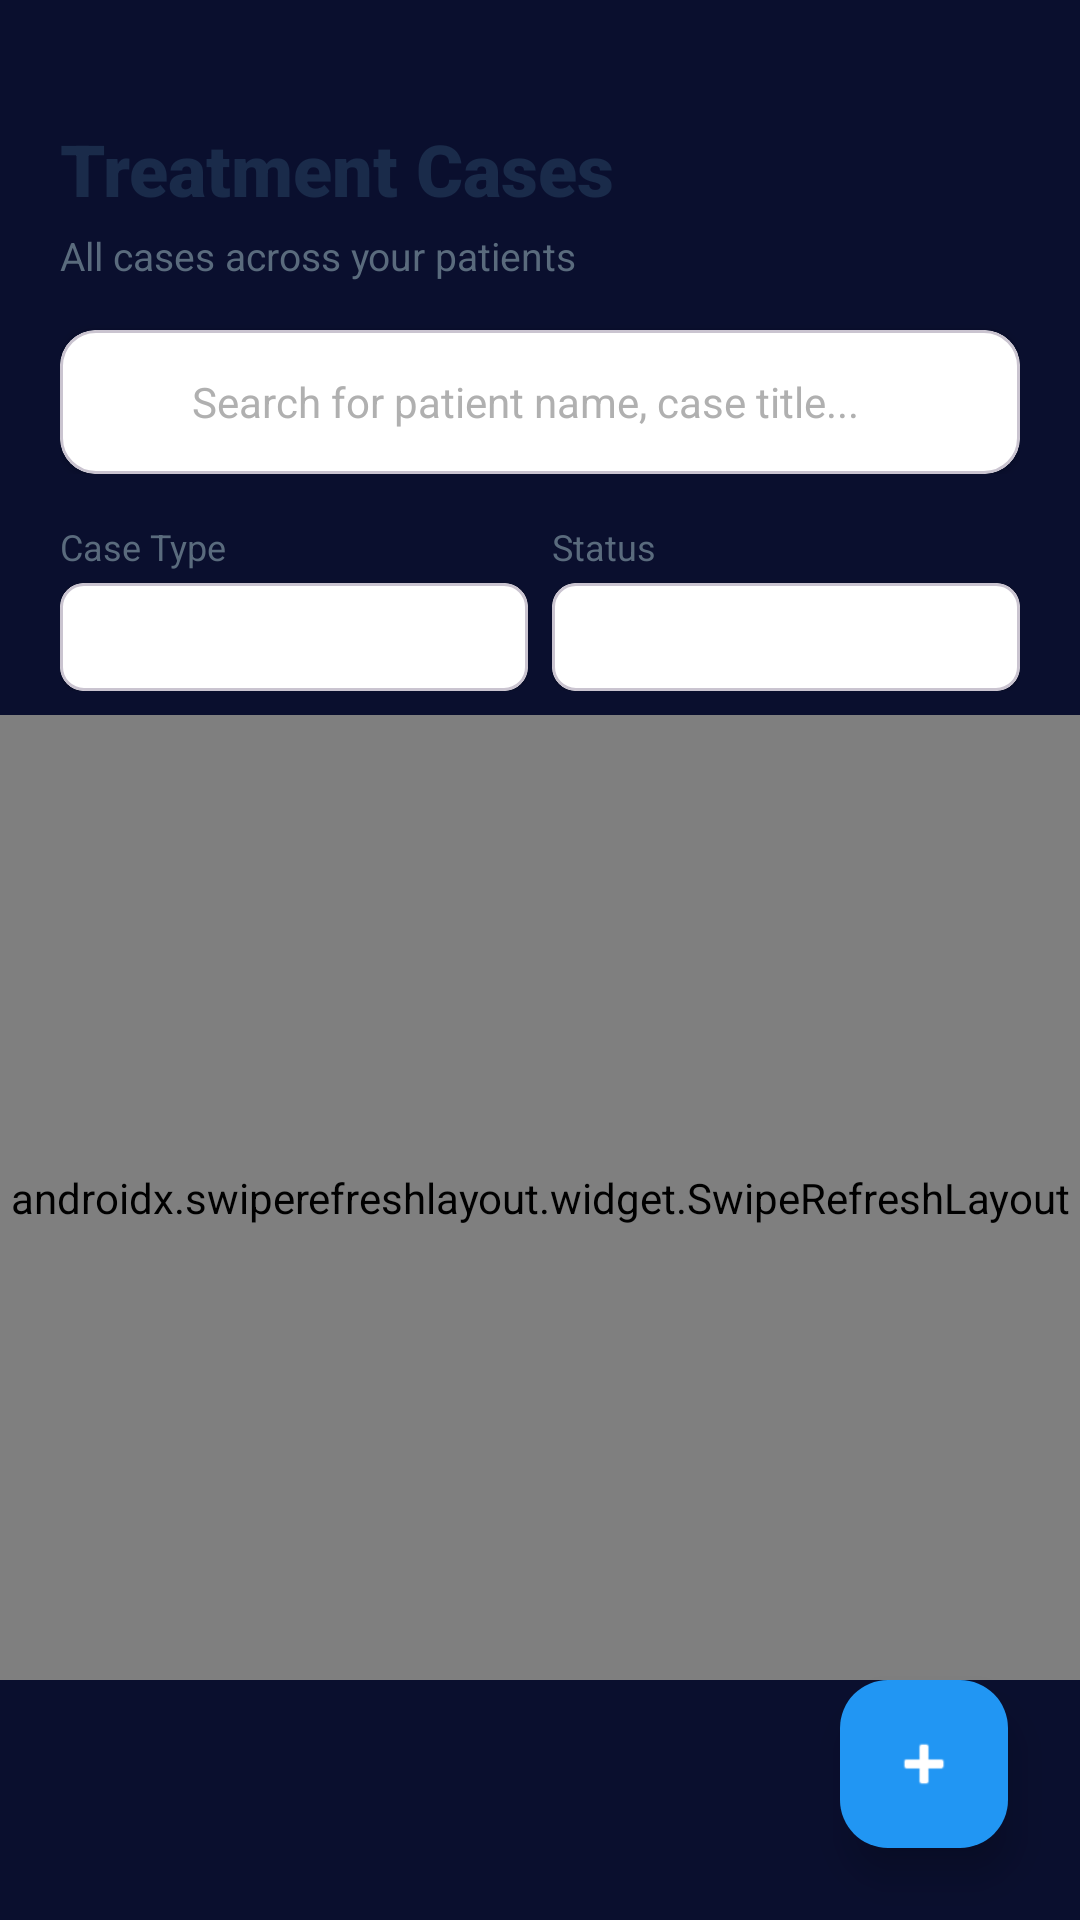

Where icons sit on this 1080 x 1920 app screen, as (x1,y1,x2,y2):
Add treatment case: (840,1680,1008,1848)
